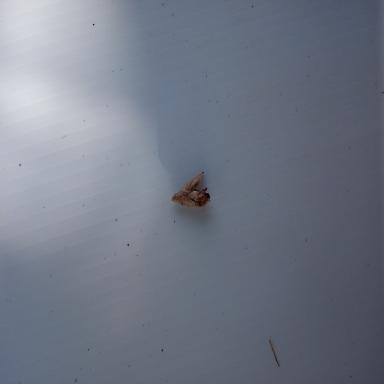pbw: (171, 171, 210, 208)
